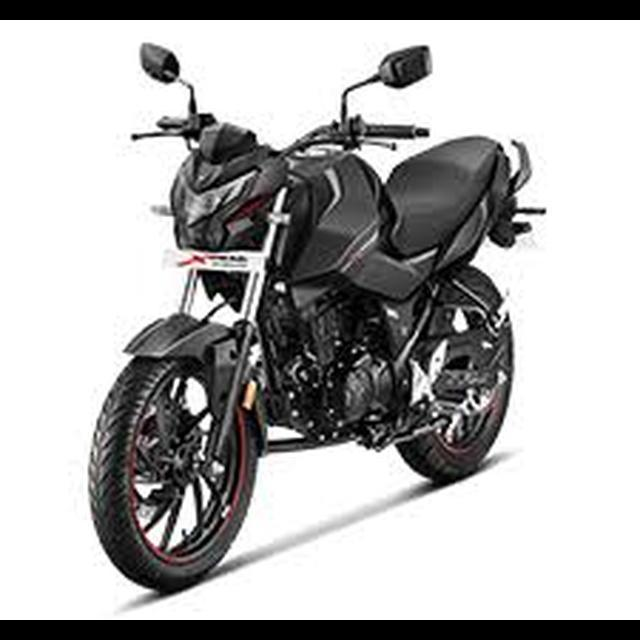motorcycle: (89, 37, 550, 597)
